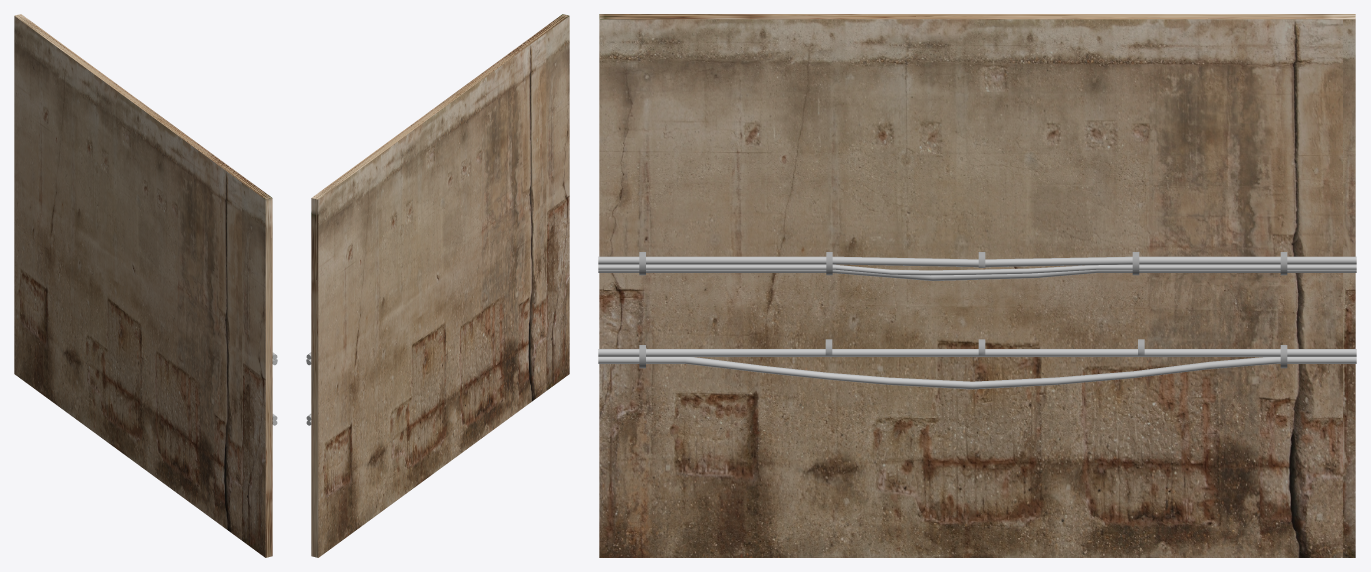
File: Temp_wall_wires 2.fbx
3 renders of one model, left to right at view 1: azimuth 30°, elevation 25°; view 2: azimuth 150°, elevation 25°; view 3: azimuth 270°, elevation 25°, orthographic. The views are drawn at different scales.
Visible parts, largest first — view 1: pCube1; view 2: pCube1; view 3: pCube1, wire1, wire4, wire5, wire3, wire2.
Boxes of the visible parts, x1,y1,x2,y2 form: pCube1: [14, 14, 272, 557]; pCube1: [311, 14, 569, 557]; pCube1: [599, 14, 1355, 557]; wire1: [598, 256, 1356, 267]; wire4: [598, 349, 1356, 356]; wire5: [598, 357, 1356, 389]; wire3: [598, 264, 1356, 275]; wire2: [598, 269, 1356, 280].
Bounding box in the file's own units: 0.082 × 2.07 × 2.64.
